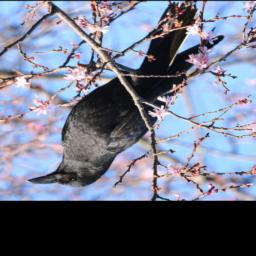Crow: (27, 4, 225, 189)
